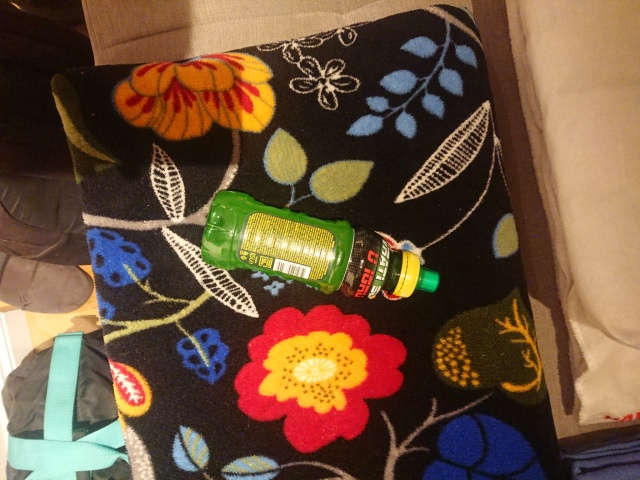Vindi Iso Sport Lemon-Grapefruit 500mL: (198, 187, 442, 300)
